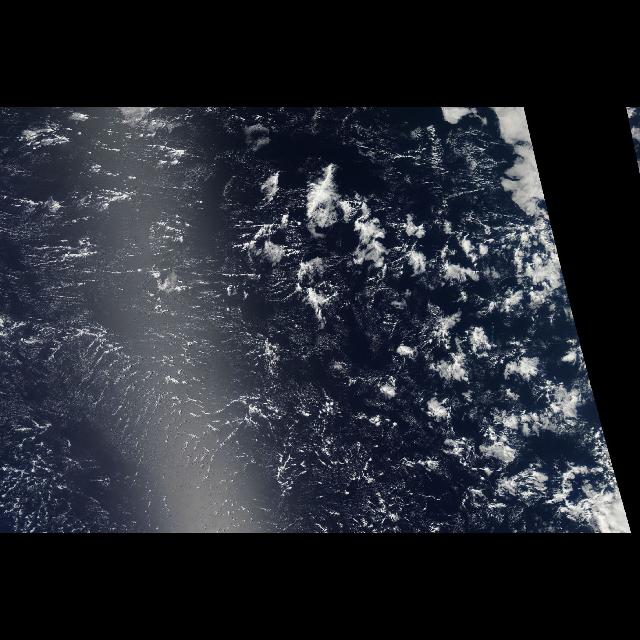Flower: (223, 149, 563, 469)
Sugar: (1, 178, 342, 524)
